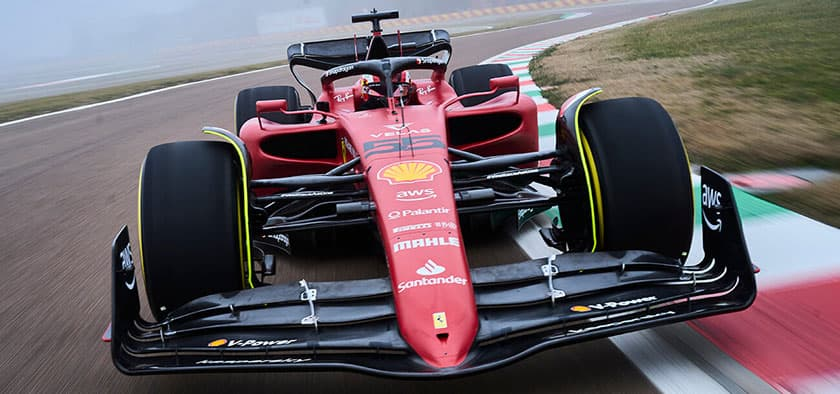Formule 1: (108, 33, 757, 380)
